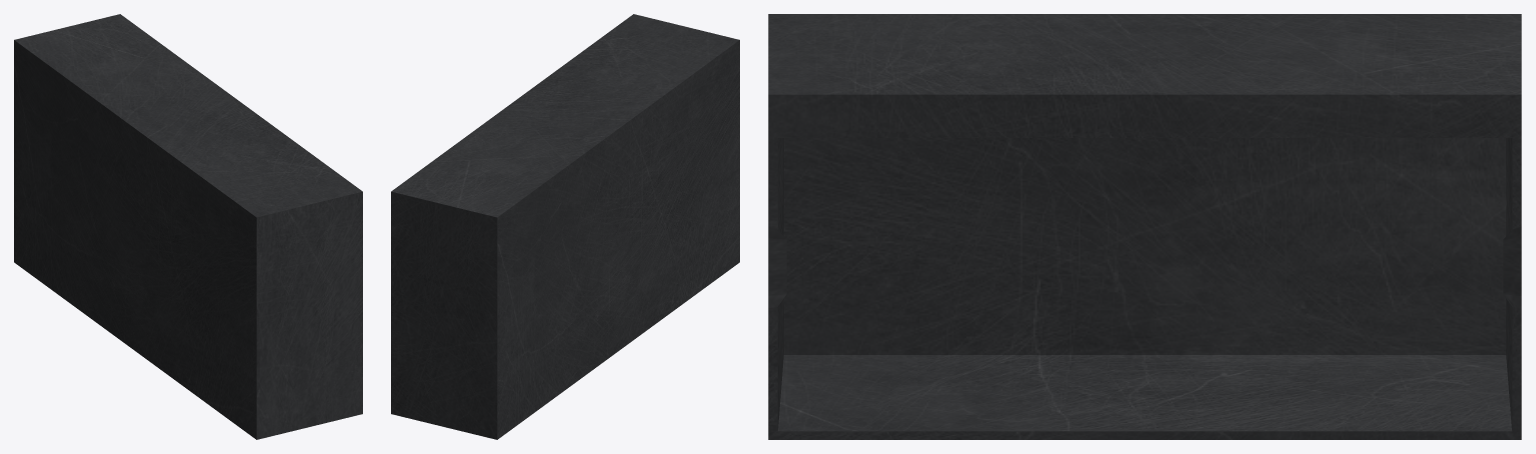
File: cupboard01.fbx
3 renders of one model, left to right at view 1: azimuth 30°, elevation 25°; view 2: azimuth 150°, elevation 25°; view 3: azimuth 270°, elevation 25°, orthographic. The views are drawn at different scales.
Visible parts, largest first — view 1: cupboard; view 2: cupboard; view 3: cupboard.
Part boxes in pixels (x1=…): cupboard: x1=14, y1=14, x2=362, y2=439; cupboard: x1=391, y1=14, x2=739, y2=439; cupboard: x1=768, y1=14, x2=1521, y2=439.
Bounding box in the file's own units: 100 × 200 × 395.
